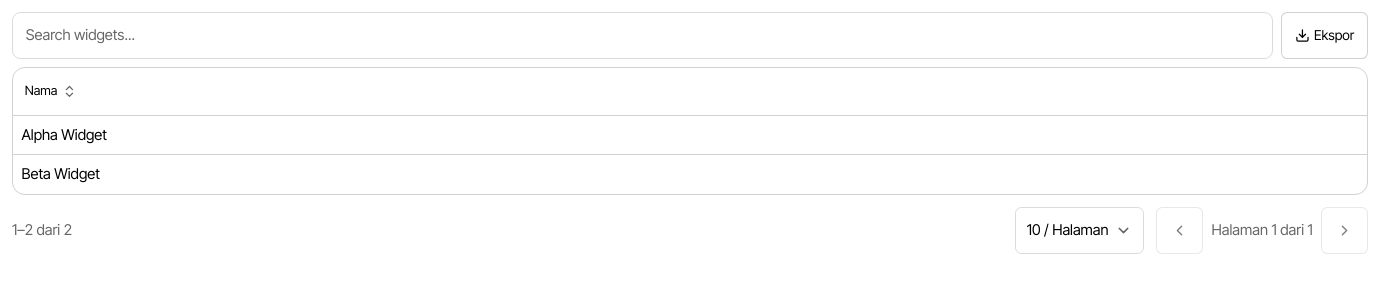
Test case: ServerEntityTable › filters rows through the search box
Expected: the text "Alpha Widget" is shown, [13,116,1367,155]
Type "Beta" into the search field with placeholder "Search widgets..." at (642, 35), box [12,12,1273,59]
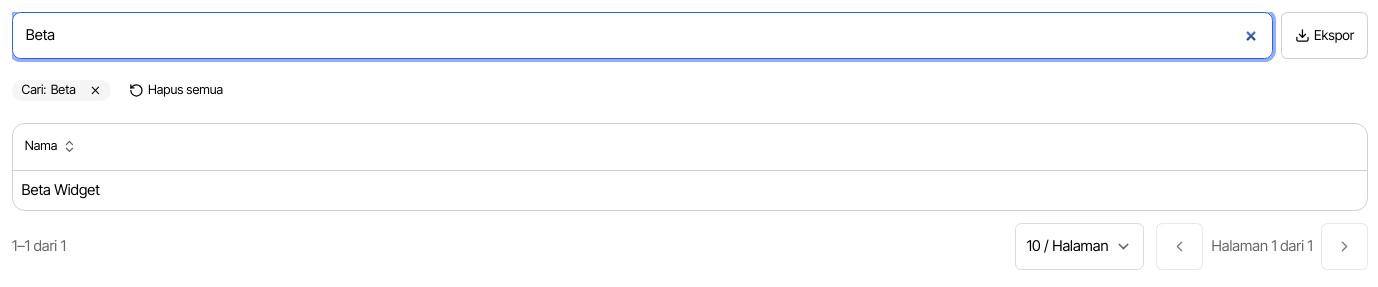
Expected: the text "Beta Widget" is shown, [13,171,1367,210]
Result: the text "Alpha Widget" is gone
